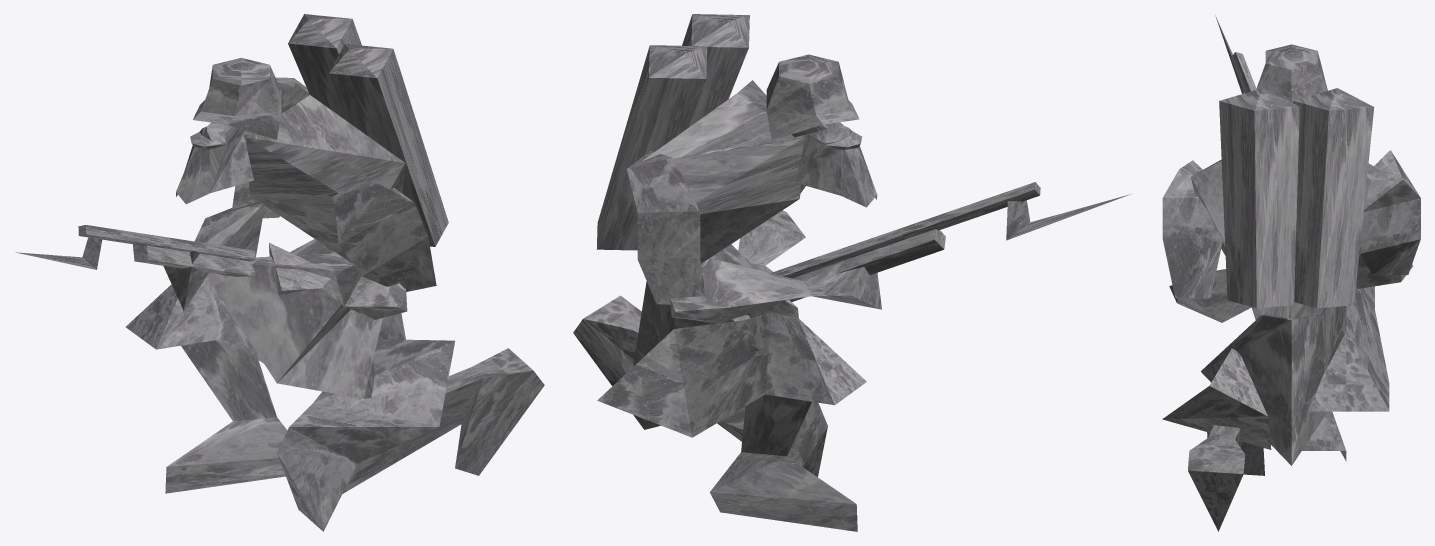
Rendered from Statue_Soldat_540.glb.
3 renders of one model, left to right at view 1: azimuth 30°, elevation 25°; view 2: azimuth 150°, elevation 25°; view 3: azimuth 270°, elevation 25°, orthographic. The views are drawn at different scales.
Parts seen in each view (by area): view 1: pSphereShape1, pCylinderShape6, pCylinderShape1, pSphereShape4, pCylinderShape5, pCylinderShape10, pCylinderShape2, pSphereShape3, pCylinderShape11, pSphereShape2, pSphereShape5, pCylinderShape4 (+4 smaller); view 2: pCylinderShape2, pSphereShape1, pCylinderShape1, pSphereShape5, pCylinderShape3, pCylinderShape4, pSphereShape3, pSphereShape2, pSphereShape4, pCylinderShape5, pCylinderShape7, pCylinderShape9 (+3 smaller); view 3: pSphereShape4, pSphereShape5, pSphereShape1, pCylinderShape2, pCylinderShape3, pCylinderShape10, pCylinderShape6, pCylinderShape5, pSphereShape3, pCylinderShape11, pCylinderShape1, pCylinderShape4 (+1 smaller).
Part boxes in pixels (x1,y1,x2,y2): pSphereShape1: (207, 83, 405, 398); pCylinderShape6: (277, 339, 455, 531); pCylinderShape1: (165, 339, 287, 493); pSphereShape4: (328, 44, 448, 246); pCylinderShape5: (305, 348, 544, 515); pCylinderShape10: (333, 181, 436, 291); pCylinderShape2: (125, 276, 263, 363); pSphereShape3: (193, 58, 281, 139); pCylinderShape11: (269, 243, 407, 319); pSphereShape2: (176, 122, 256, 204); pSphereShape5: (288, 14, 361, 121); pCylinderShape4: (163, 202, 264, 310); pCylinderShape2: (597, 312, 866, 437); pSphereShape1: (633, 80, 803, 366); pCylinderShape1: (710, 343, 857, 531); pSphereShape5: (596, 45, 707, 250); pCylinderShape3: (627, 151, 705, 304); pCylinderShape4: (670, 258, 881, 323); pSphereShape3: (766, 54, 859, 140); pSphereShape2: (792, 122, 877, 207); pSphereShape4: (682, 14, 749, 127); pCylinderShape5: (573, 295, 742, 441); pCylinderShape7: (771, 182, 1040, 278); pCylinderShape9: (746, 229, 945, 315); pSphereShape4: (1219, 88, 1299, 308); pSphereShape5: (1293, 88, 1374, 308); pSphereShape1: (1191, 159, 1387, 465); pCylinderShape2: (1308, 286, 1389, 411); pCylinderShape3: (1360, 150, 1420, 274); pCylinderShape10: (1162, 160, 1222, 298); pCylinderShape6: (1162, 348, 1271, 475); pCylinderShape5: (1188, 425, 1245, 531); pSphereShape3: (1256, 44, 1327, 103); pCylinderShape11: (1169, 269, 1251, 322); pCylinderShape1: (1302, 288, 1359, 461); pCylinderShape4: (1356, 252, 1413, 288).
Bounding box in the file's own units: 0.7804 × 0.6421 × 0.3674.
Materials: 16 (16 with a texture image).
